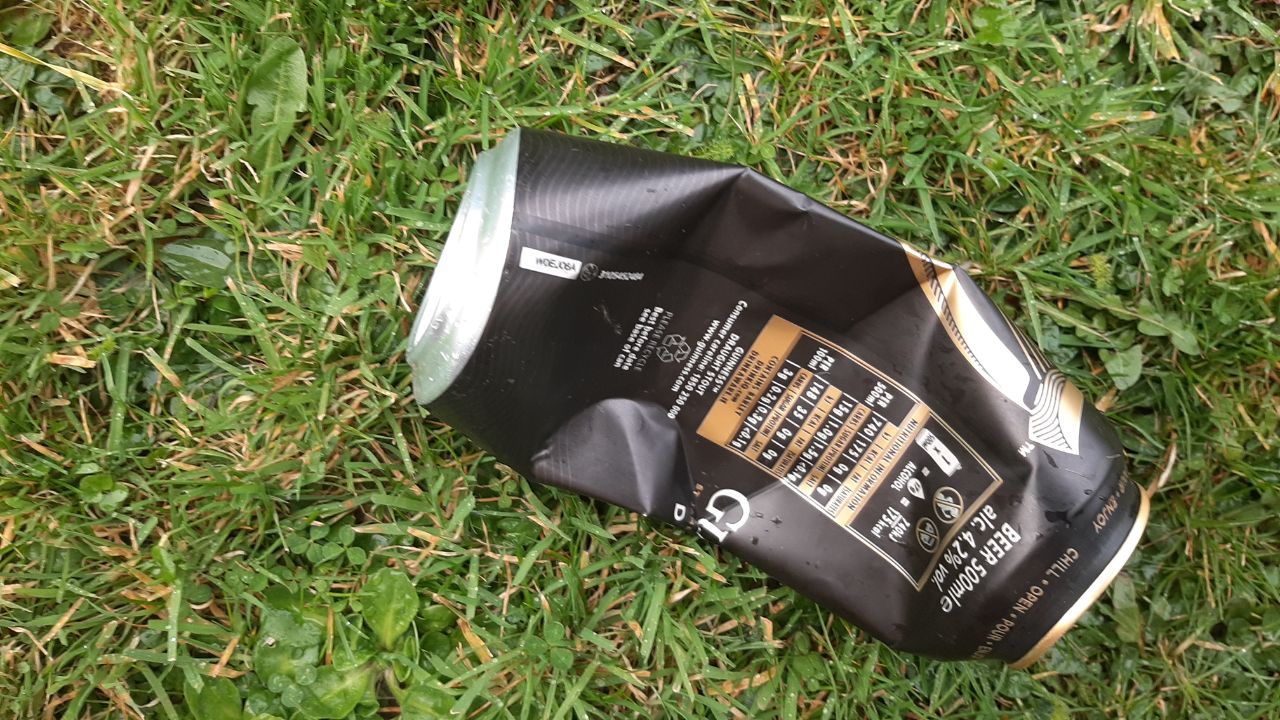Can: (400, 128, 1153, 670)
